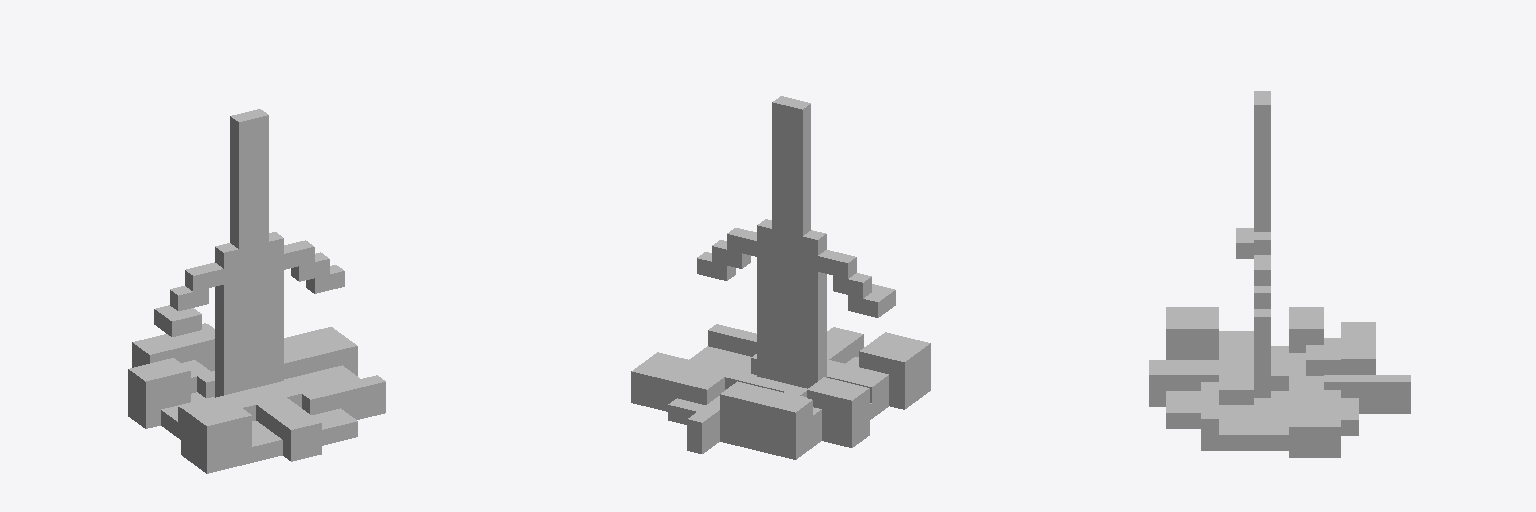
The model's file is Sealed Sword.obj.
The picture shows the model from 3 angles: view 1: azimuth 30°, elevation 25°; view 2: azimuth 150°, elevation 25°; view 3: azimuth 270°, elevation 25°; orthographic projection.
Visible parts, largest first — view 1: object 1; view 2: object 1; view 3: object 1.
Part boxes in pixels (x1,y1,x2,y2): object 1: (128,109,385,473); object 1: (631,96,930,459); object 1: (1149,91,1410,457).
Bounding box in the file's own units: 1.4 × 1.9 × 1.5.